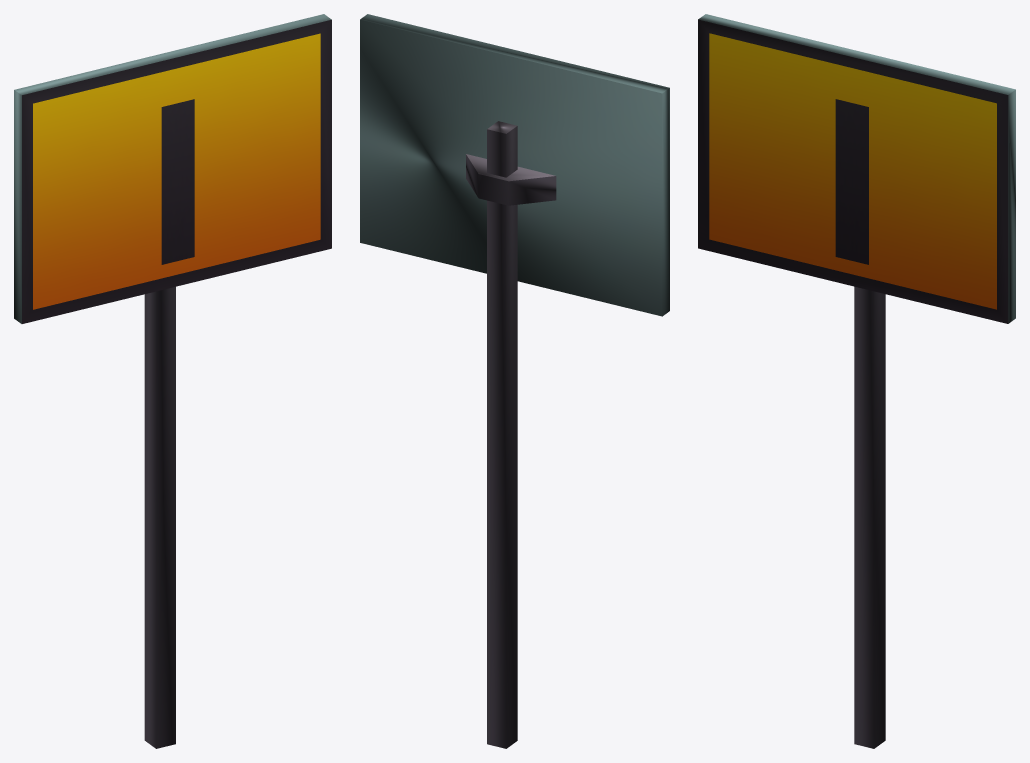
The model's file is Streetsign_Heavy_Vehicles.fbx.
3 renders of one model, left to right at view 1: azimuth 30°, elevation 25°; view 2: azimuth 150°, elevation 25°; view 3: azimuth 330°, elevation 25°, orthographic. The views are drawn at different scales.
Parts seen in each view (by area): view 1: Streetsign_2I; view 2: Streetsign_2I; view 3: Streetsign_2I.
Boxes of the visible parts, box(x1,y1,x2,y2) form: Streetsign_2I: box(14, 14, 331, 748); Streetsign_2I: box(360, 14, 669, 748); Streetsign_2I: box(698, 14, 1015, 748).
Size of the model in its own units: 139 by 298 by 20.66.
